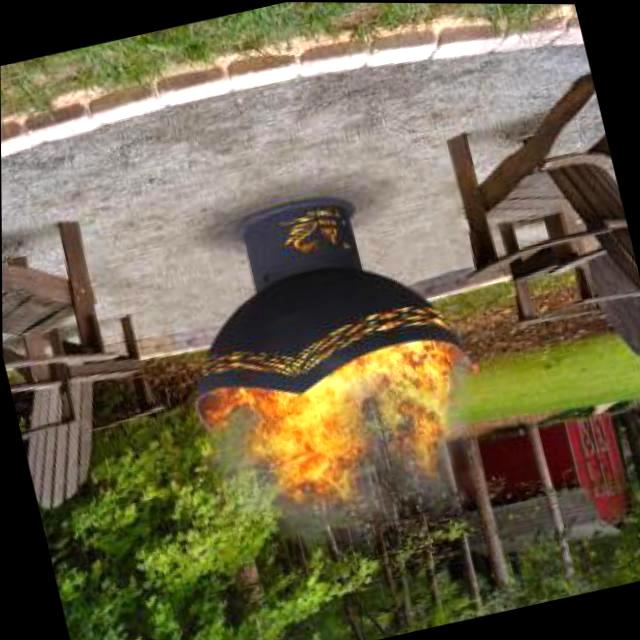fire: (227, 318, 477, 532), (192, 387, 284, 537)
